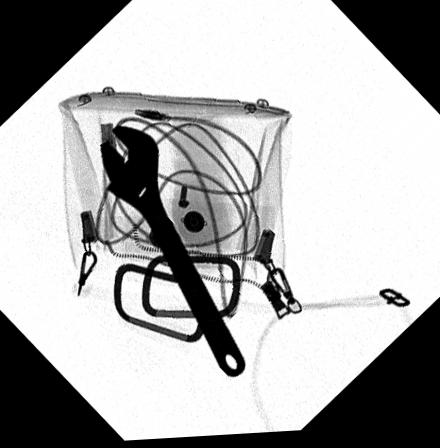Wrench: (97, 126, 246, 381)
